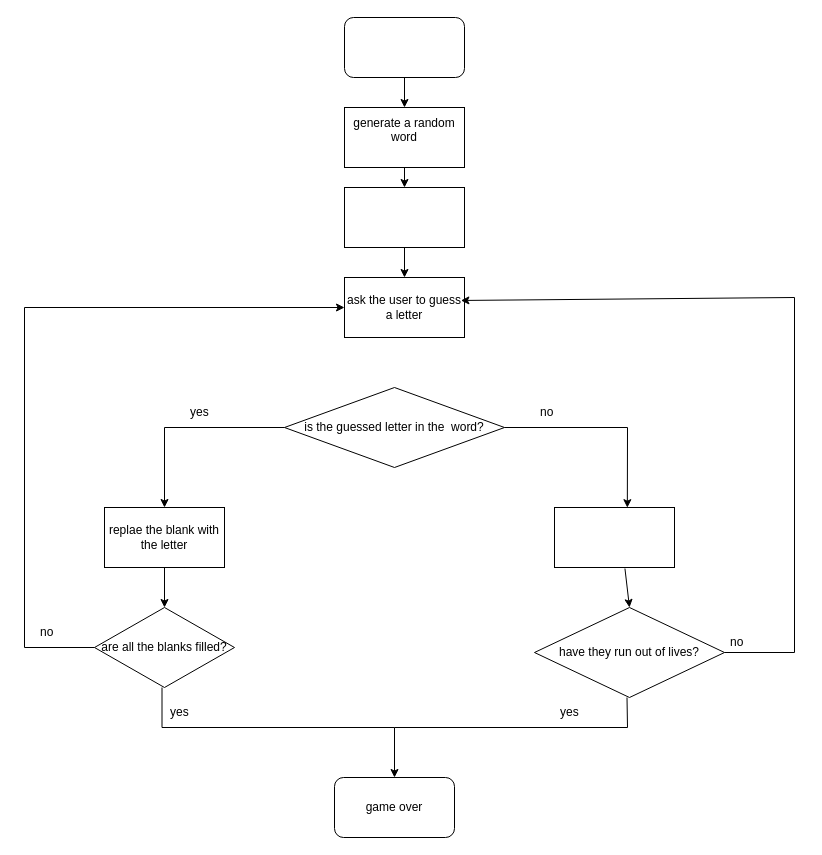
The diagram is 822 pixels wide and 855 high, and some of its shapes have lost their labels. Here are the shapes that lost their labels. From the top down, the centre of each, then its label:
At point (404, 47): "start".
At point (404, 217): "generate as many blanks as letters in word".
At point (614, 537): "lose a life".
